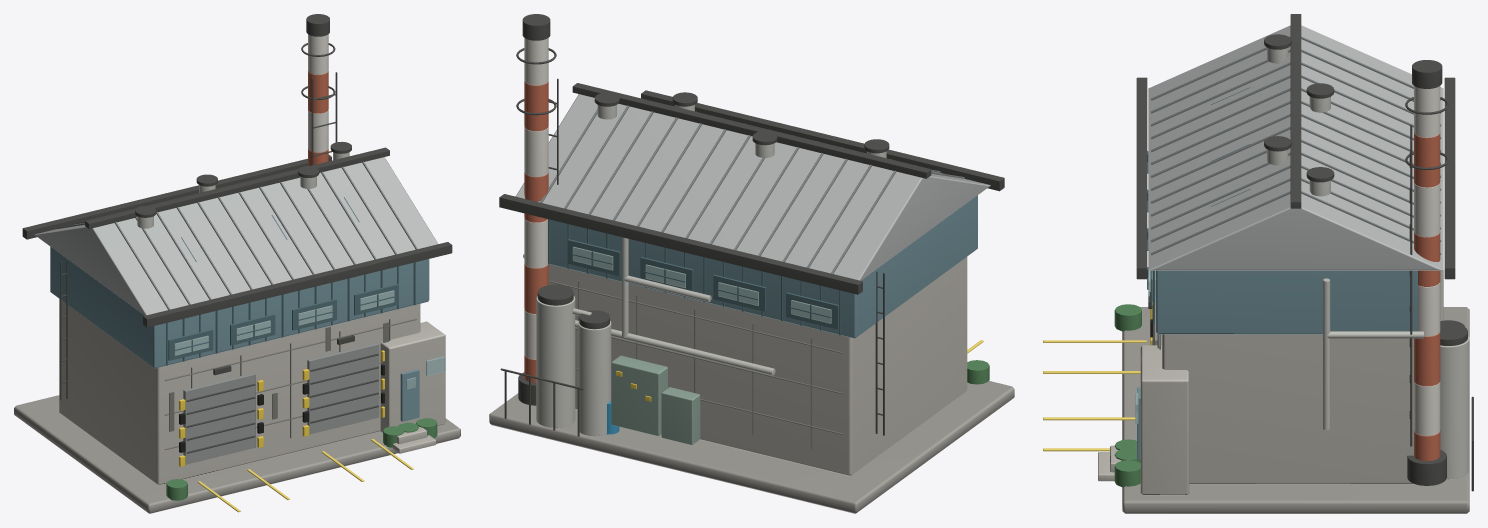
The model's file is industrial_small_warehouse.glb.
The picture shows the model from 3 angles, left to right: view 1: azimuth 30°, elevation 25°; view 2: azimuth 150°, elevation 25°; view 3: azimuth 270°, elevation 25°; orthographic projection. The views are drawn at different scales.
Parts seen in each view (by area): view 1: industrial_small_warehouse_ribbed_gable_roof, industrial_small_warehouse_lower_weathered_concrete_block, industrial_small_warehouse_blue_corrugated_upper_wall_band, industrial_small_warehouse_ground_centered_concrete_slab, industrial_small_warehouse_rollup_door_1, industrial_small_warehouse_rollup_door_0, industrial_small_warehouse_front_office_projection, industrial_small_warehouse_front_eave_trim, industrial_small_warehouse_dark_roof_ridge_cap, industrial_small_warehouse_rear_eave_trim, industrial_small_warehouse_blue_personnel_door, industrial_small_warehouse_smokestack_band_07 (+7 smaller); view 2: industrial_small_warehouse_lower_weathered_concrete_block, industrial_small_warehouse_ribbed_gable_roof, industrial_small_warehouse_ground_centered_concrete_slab, industrial_small_warehouse_blue_corrugated_upper_wall_band, industrial_small_warehouse_rear_eave_trim, industrial_small_warehouse_vertical_storage_tank_0, industrial_small_warehouse_dark_roof_ridge_cap, industrial_small_warehouse_faded_green_electrical_cabinet_la, industrial_small_warehouse_vertical_storage_tank_1, industrial_small_warehouse_front_eave_trim, industrial_small_warehouse_faded_green_electrical_cabinet_sm, industrial_small_warehouse_rear_horizontal_pipe_low (+16 smaller); view 3: industrial_small_warehouse_ribbed_gable_roof, industrial_small_warehouse_lower_weathered_concrete_block, industrial_small_warehouse_blue_corrugated_upper_wall_band, industrial_small_warehouse_ground_centered_concrete_slab, industrial_small_warehouse_front_office_projection, industrial_small_warehouse_vertical_storage_tank_0, industrial_small_warehouse_front_eave_trim, industrial_small_warehouse_rear_eave_trim, industrial_small_warehouse_dark_roof_ridge_cap, industrial_small_warehouse_smokestack_band_05, industrial_small_warehouse_smokestack_band_01, industrial_small_warehouse_smokestack_band_02 (+13 smaller).
Part boxes in pixels (<box>): industrial_small_warehouse_ribbed_gable_roof: <box>34,157,438,315</box>; industrial_small_warehouse_lower_weathered_concrete_block: <box>59,299,420,485</box>; industrial_small_warehouse_blue_corrugated_upper_wall_band: <box>50,247,429,368</box>; industrial_small_warehouse_ground_centered_concrete_slab: <box>14,395,460,513</box>; industrial_small_warehouse_rollup_door_1: <box>307,343,379,434</box>; industrial_small_warehouse_rollup_door_0: <box>183,373,255,464</box>; industrial_small_warehouse_front_office_projection: <box>380,321,445,432</box>; industrial_small_warehouse_front_eave_trim: <box>143,242,452,327</box>; industrial_small_warehouse_dark_roof_ridge_cap: <box>85,147,389,228</box>; industrial_small_warehouse_rear_eave_trim: <box>22,155,331,239</box>; industrial_small_warehouse_blue_personnel_door: <box>400,369,419,421</box>; industrial_small_warehouse_smokestack_band_07: <box>308,34,328,74</box>; industrial_small_warehouse_lower_weathered_concrete_block: <box>548,257,967,476</box>; industrial_small_warehouse_ribbed_gable_roof: <box>515,94,990,280</box>; industrial_small_warehouse_ground_centered_concrete_slab: <box>489,381,1014,513</box>; industrial_small_warehouse_blue_corrugated_upper_wall_band: <box>548,195,977,338</box>; industrial_small_warehouse_rear_eave_trim: <box>499,194,862,294</box>; industrial_small_warehouse_vertical_storage_tank_0: <box>536,295,575,427</box>; industrial_small_warehouse_dark_roof_ridge_cap: <box>572,83,931,178</box>; industrial_small_warehouse_faded_green_electrical_cabinet_la: <box>611,355,667,436</box>; industrial_small_warehouse_vertical_storage_tank_1: <box>578,321,611,436</box>; industrial_small_warehouse_front_eave_trim: <box>641,90,1004,191</box>; industrial_small_warehouse_faded_green_electrical_cabinet_sm: <box>661,387,700,444</box>; industrial_small_warehouse_rear_horizontal_pipe_low: <box>574,320,775,375</box>; industrial_small_warehouse_ribbed_gable_roof: <box>1148,25,1443,270</box>; industrial_small_warehouse_lower_weathered_concrete_block: <box>1162,334,1414,484</box>; industrial_small_warehouse_blue_corrugated_upper_wall_band: <box>1156,270,1417,334</box>; industrial_small_warehouse_ground_centered_concrete_slab: <box>1122,307,1469,513</box>; industrial_small_warehouse_front_office_projection: <box>1140,345,1189,495</box>; industrial_small_warehouse_vertical_storage_tank_0: <box>1440,335,1469,479</box>; industrial_small_warehouse_front_eave_trim: <box>1136,77,1147,279</box>; industrial_small_warehouse_rear_eave_trim: <box>1444,77,1455,279</box>; industrial_small_warehouse_dark_roof_ridge_cap: <box>1290,14,1301,208</box>; industrial_small_warehouse_smokestack_band_05: <box>1414,182,1440,237</box>; industrial_small_warehouse_smokestack_band_01: <box>1414,381,1440,436</box>; industrial_small_warehouse_smokestack_band_02: <box>1414,331,1440,386</box>.
Size of the model in its own units: 1.52 by 1.57 by 1.41.
